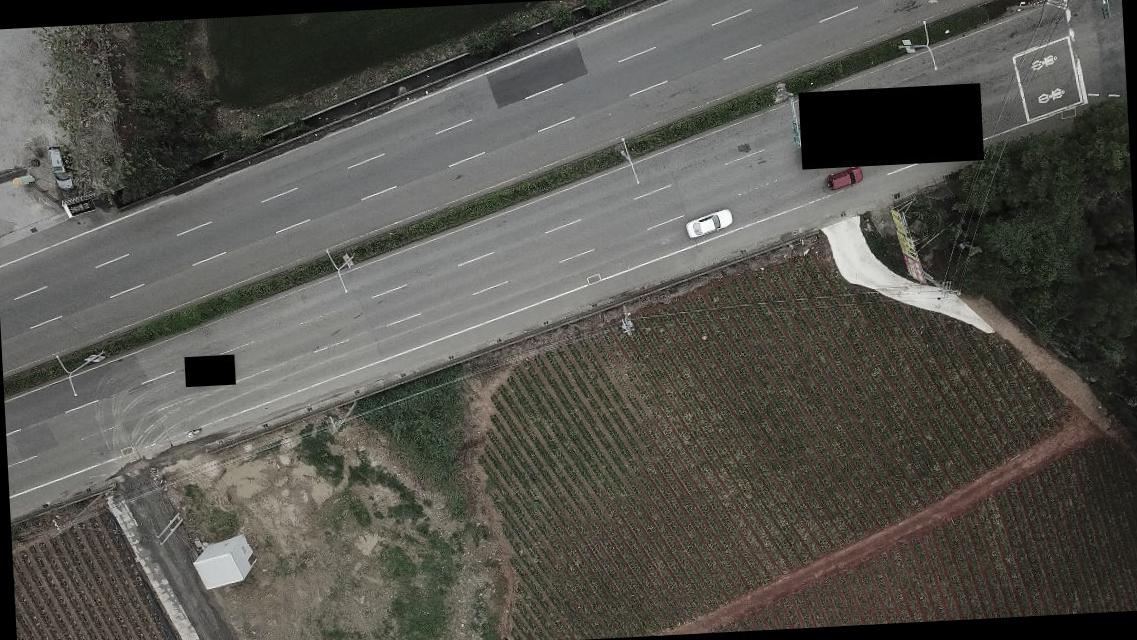vehicle: (929, 124, 980, 157), (684, 207, 734, 240), (44, 143, 71, 193), (824, 164, 864, 193)
